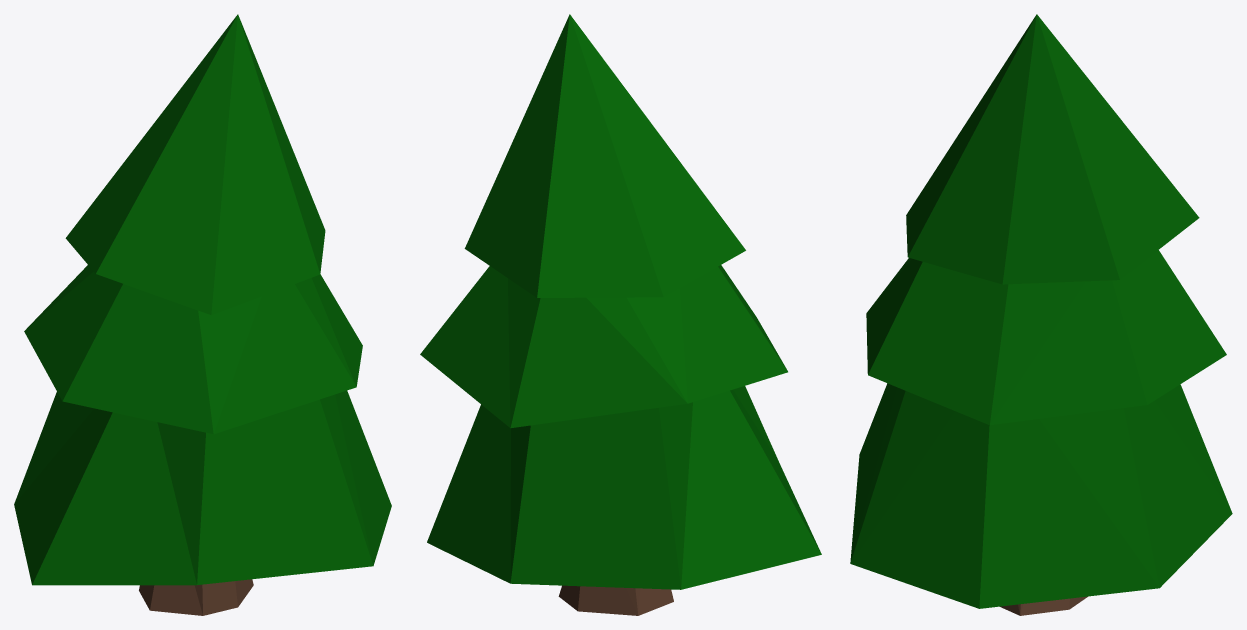
File: tree.002.obj
The picture shows the model from 3 angles, left to right: view 1: azimuth 30°, elevation 25°; view 2: azimuth 150°, elevation 25°; view 3: azimuth 270°, elevation 25°; orthographic projection. The views are drawn at different scales.
Parts seen in each view (by area): view 1: Tree.002; view 2: Tree.002; view 3: Tree.002.
Part boxes in pixels (x1,y1,x2,y2): Tree.002: (14,14,391,615); Tree.002: (420,14,821,615); Tree.002: (850,14,1232,615).
Size of the model in its own units: 1.73 by 2.64 by 1.53.
1 material, 1 textured.
